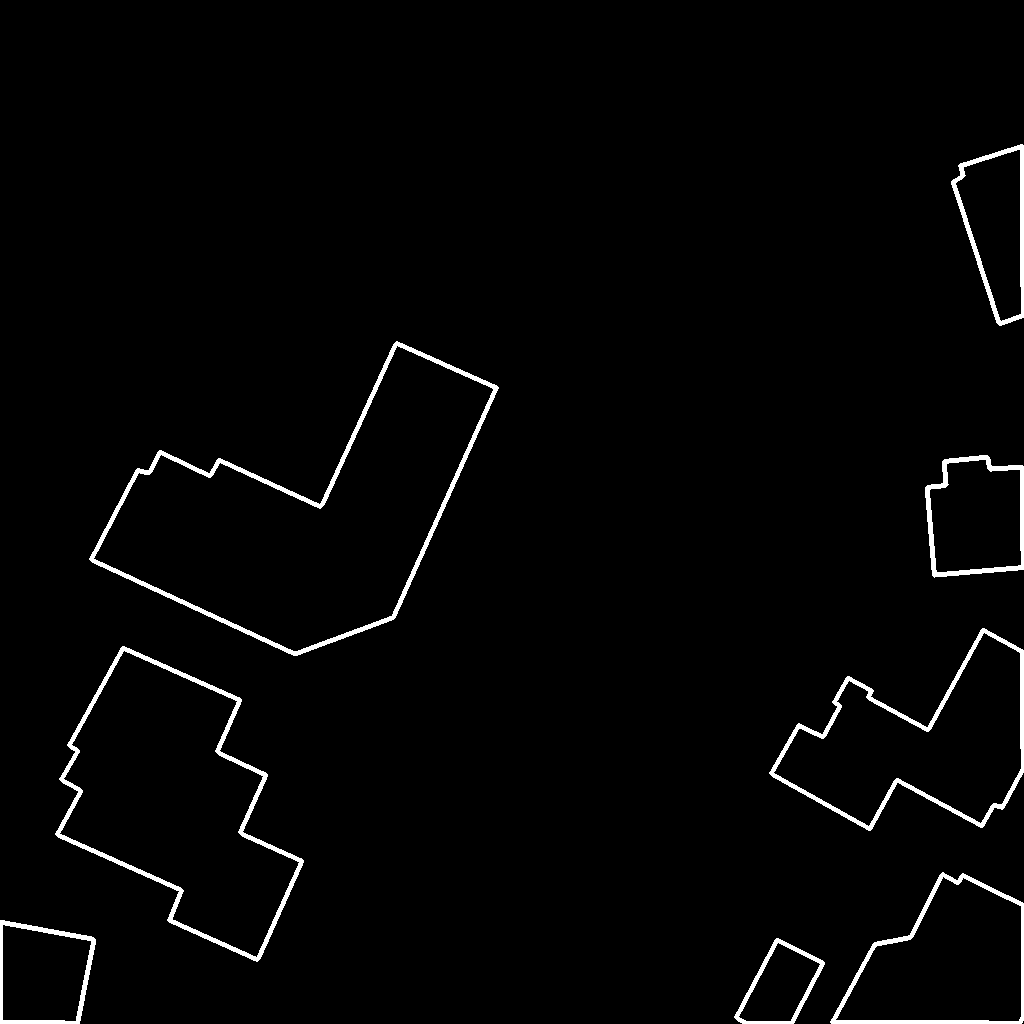building: (91, 343, 498, 655), (57, 648, 303, 961), (771, 630, 1024, 830), (832, 874, 1024, 1024), (953, 146, 1024, 325), (0, 922, 117, 1024), (927, 457, 1024, 576), (736, 940, 824, 1024)
